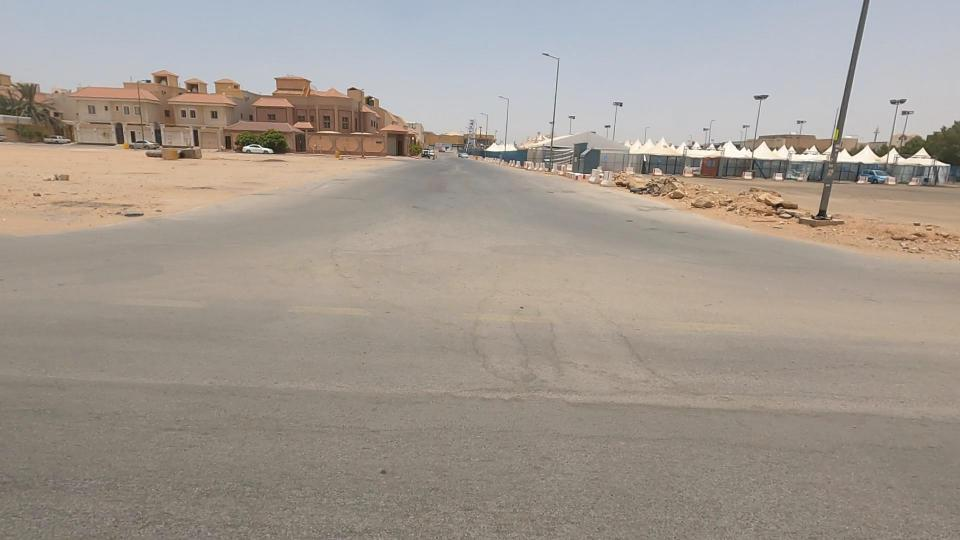GARBAGE: (727, 181, 831, 243), (608, 162, 689, 210), (92, 187, 169, 237)
